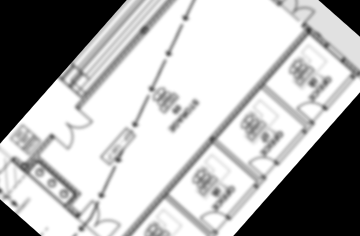door: (293, 91, 329, 127), (246, 147, 279, 180), (197, 202, 230, 235), (300, 19, 332, 49), (322, 41, 348, 65)
double door: (50, 105, 96, 152), (72, 196, 124, 236), (276, 0, 319, 29)
wall: (73, 0, 238, 112), (35, 154, 84, 199), (18, 132, 57, 175), (62, 188, 84, 212), (338, 56, 360, 79), (216, 0, 283, 7), (61, 200, 83, 221)
window: (112, 23, 315, 236), (0, 146, 15, 177)
